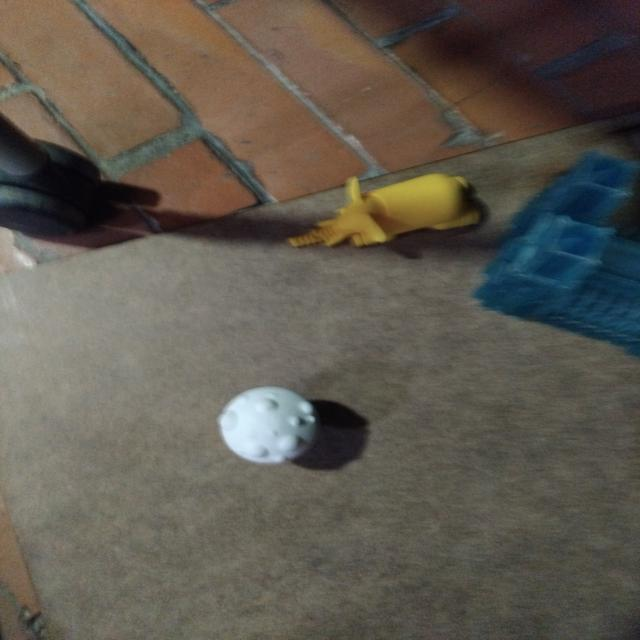Hongo: (204, 374, 335, 478)
